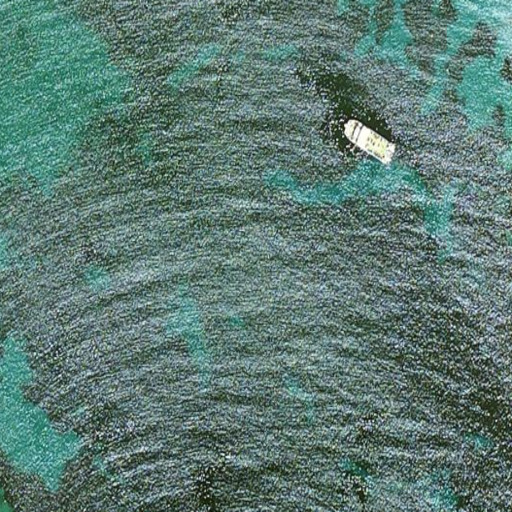ship: (338, 117, 398, 169)
